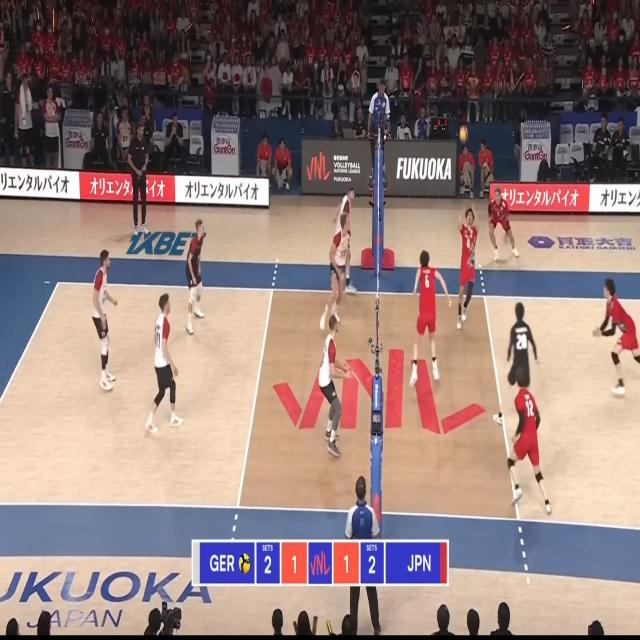ball: (459, 125, 468, 144)
